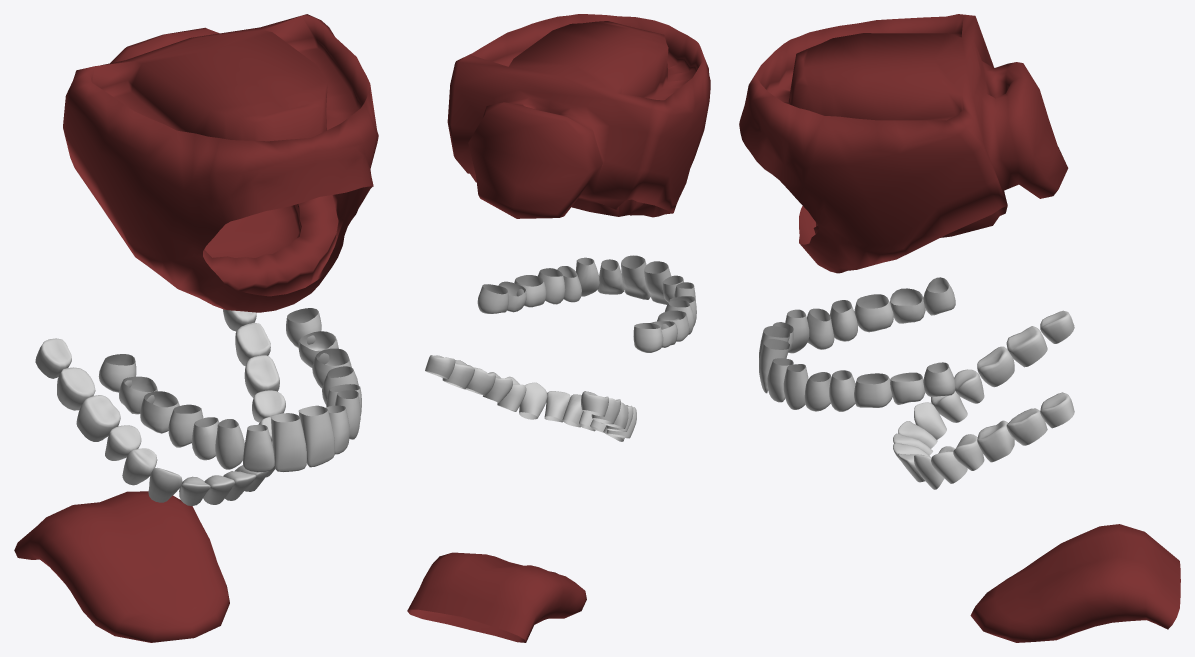
Rendered from MyHumanHead MOUTH substance painter.obj.
3 renders of one model, left to right at view 1: azimuth 30°, elevation 25°; view 2: azimuth 150°, elevation 25°; view 3: azimuth 270°, elevation 25°, orthographic. The views are drawn at different scales.
Visible parts, largest first — view 1: MouthMesh, Teeth, Tongue; view 2: MouthMesh, Teeth, Tongue; view 3: MouthMesh, Teeth, Tongue.
Boxes of the visible parts, x1,y1,x2,y2 form: MouthMesh: (63, 14, 378, 312); Teeth: (35, 308, 361, 505); Tongue: (14, 491, 229, 642); MouthMesh: (447, 14, 710, 218); Teeth: (425, 255, 696, 441); Tongue: (407, 552, 586, 642); MouthMesh: (739, 14, 1068, 273); Teeth: (759, 277, 1074, 489); Tongue: (970, 524, 1180, 642).
Bounding box in the file's own units: 0.0751 × 0.1707 × 0.121.
